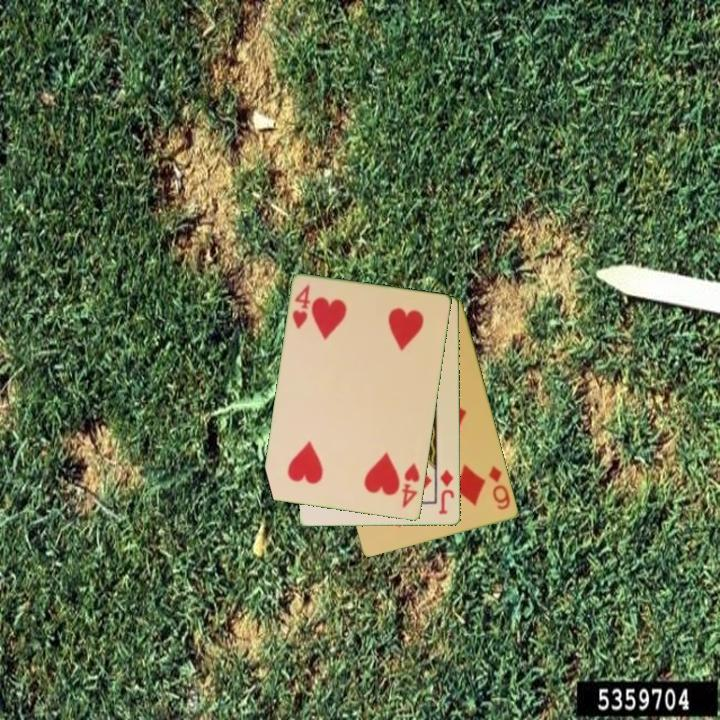4h: (398, 460, 423, 511), (289, 281, 313, 332)
6d: (485, 462, 514, 513)
Jd: (436, 467, 457, 517)
